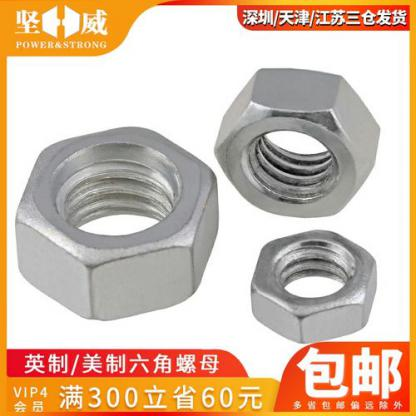FOD: (14, 123, 220, 322), (214, 66, 380, 221), (247, 227, 380, 344)
